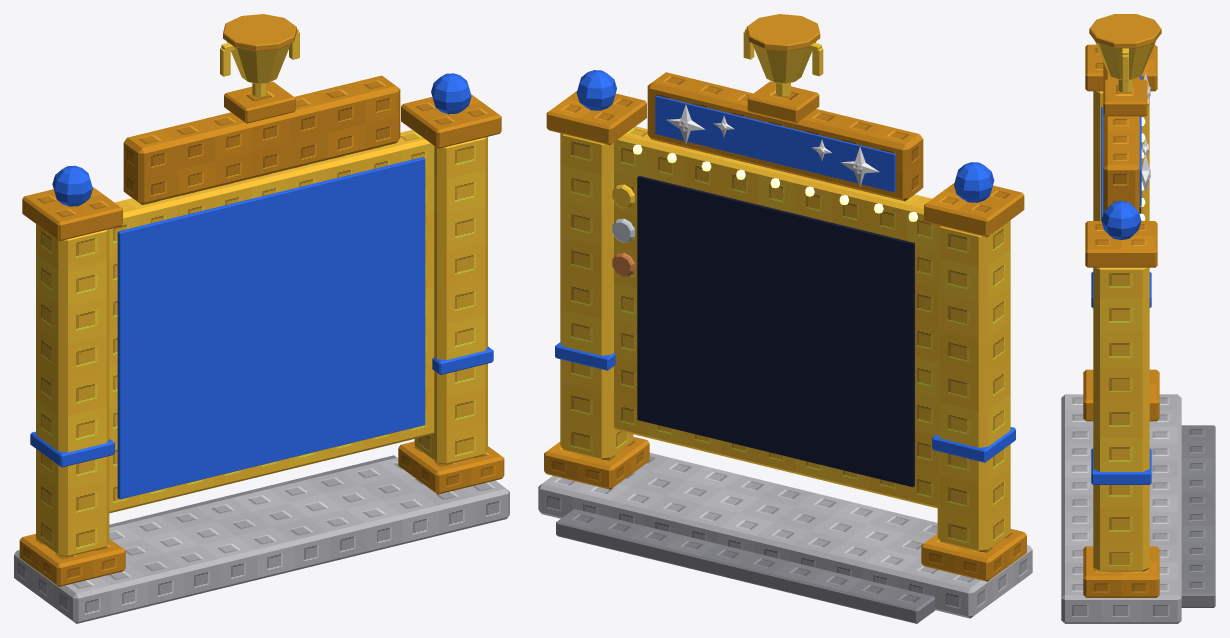
The model's file is LeaderboardGold.glb.
The picture shows the model from 3 angles, left to right: view 1: azimuth 30°, elevation 25°; view 2: azimuth 150°, elevation 25°; view 3: azimuth 270°, elevation 25°; orthographic projection. The views are drawn at different scales.
Visible parts, largest first — view 1: LeaderboardGold; view 2: LeaderboardGold, LeaderboardGold_Screen, LeaderboardGold_Glow; view 3: LeaderboardGold.
Boxes of the visible parts, bbox=[...] form: LeaderboardGold: bbox=[14, 14, 509, 623]; LeaderboardGold: bbox=[538, 14, 1032, 623]; LeaderboardGold_Screen: bbox=[637, 175, 914, 487]; LeaderboardGold_Glow: bbox=[633, 144, 917, 221]; LeaderboardGold: bbox=[1061, 14, 1215, 623].
Bounding box in the file's own units: 12.3 × 13.62 × 3.85.
Materials: 2 (1 with a texture image).
